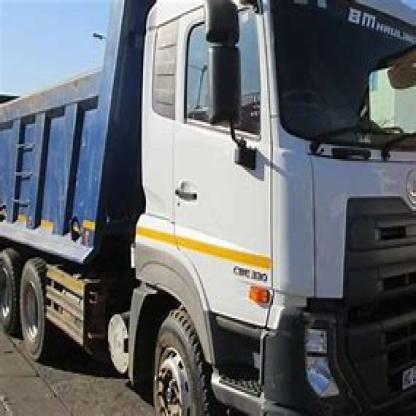dump_truck: (7, 2, 410, 414)
